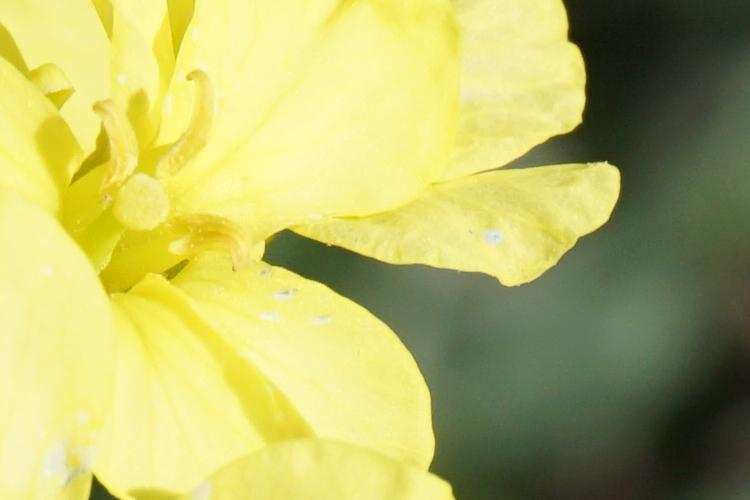yellow: (2, 1, 613, 486)
